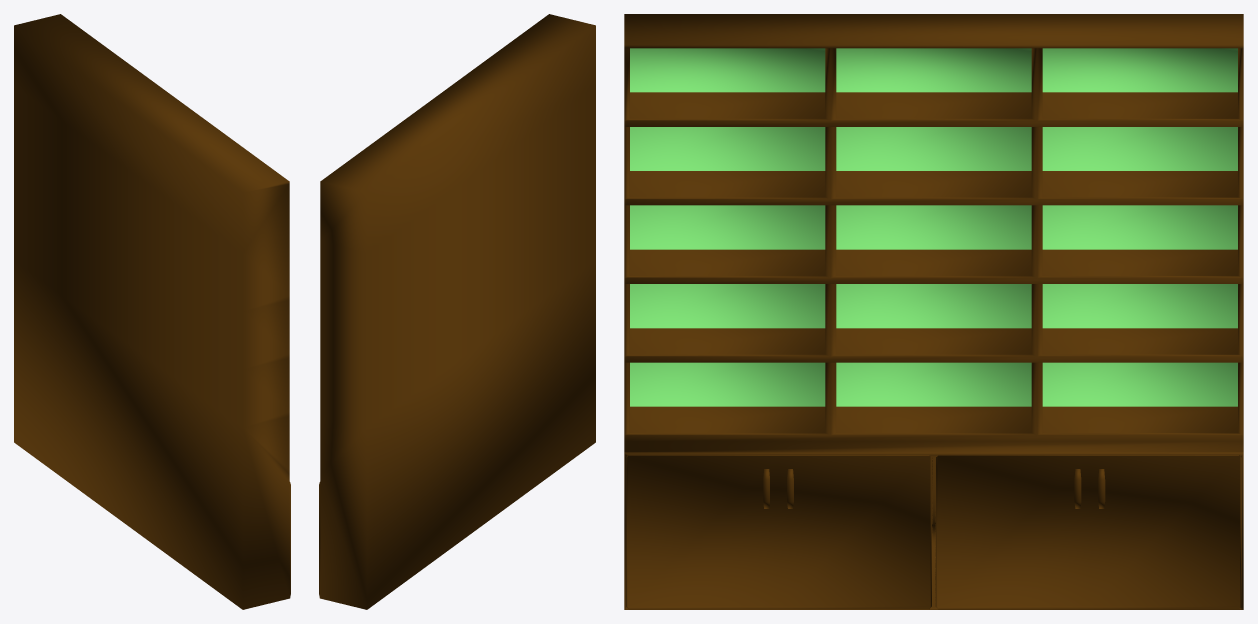
The model's file is Commode.fbx.
The picture shows the model from 3 angles, left to right: view 1: azimuth 30°, elevation 25°; view 2: azimuth 150°, elevation 25°; view 3: azimuth 270°, elevation 25°; orthographic projection. The views are drawn at different scales.
Visible parts, largest first — view 1: Meuble; view 2: Meuble; view 3: Meuble.
Boxes of the visible parts, x1=… form: Meuble: x1=14, y1=14, x2=290, y2=609; Meuble: x1=319, y1=14, x2=595, y2=609; Meuble: x1=624, y1=14, x2=1243, y2=609.
Size of the model in its own units: 212 by 1709 by 1698.
